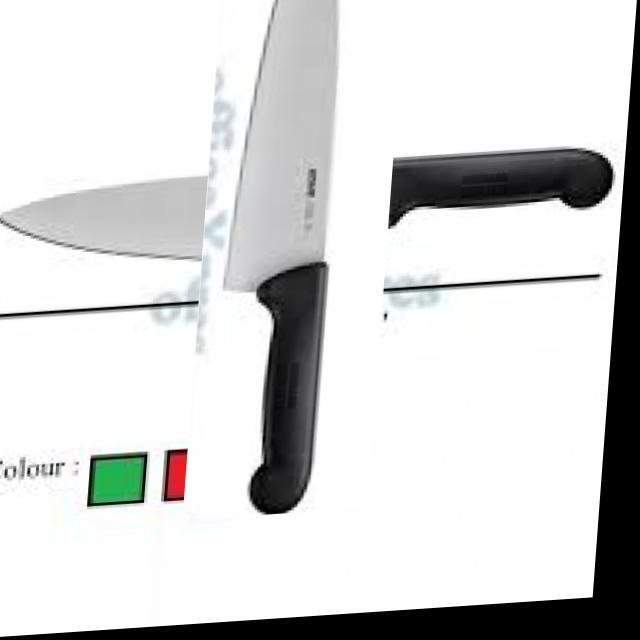knife: (0, 141, 615, 264), (222, 0, 340, 517)
